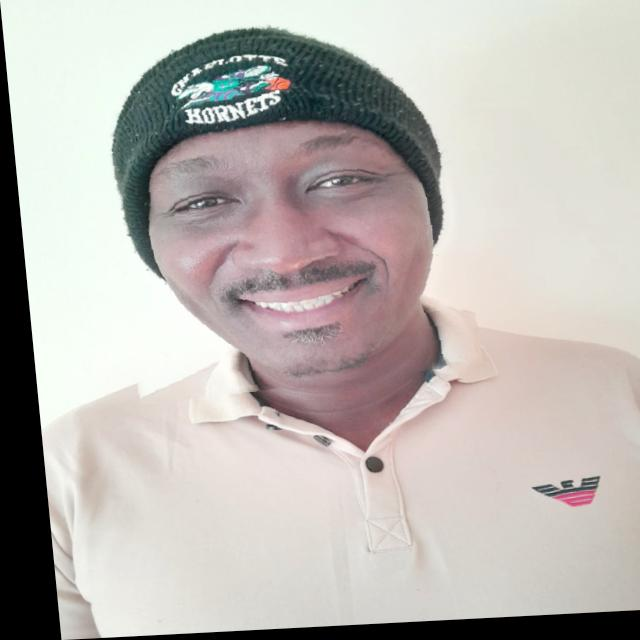sad: (85, 9, 471, 401)
